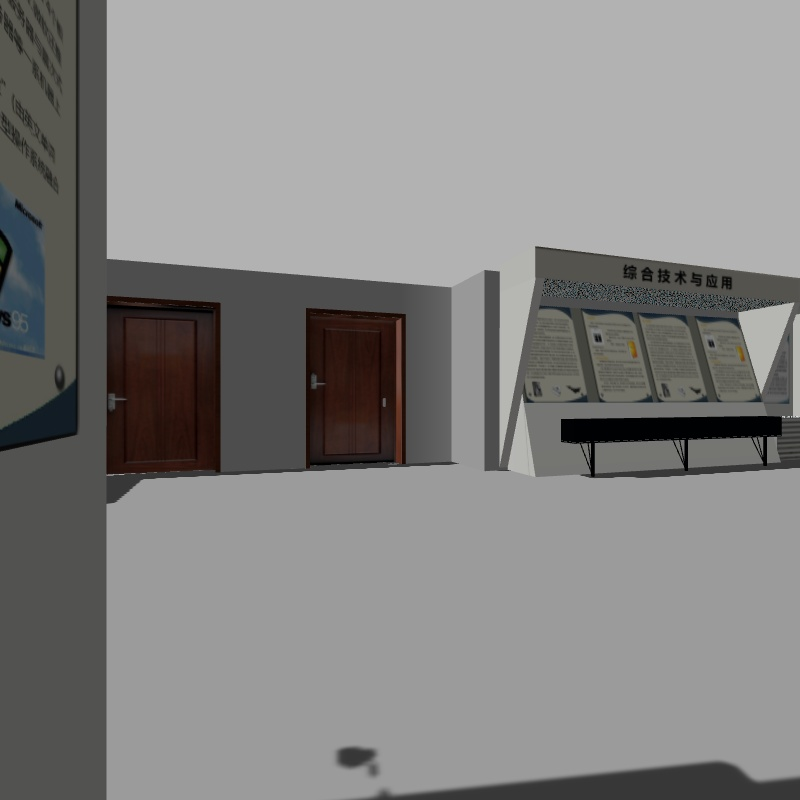handle: (103, 388, 130, 415), (308, 368, 335, 394)
